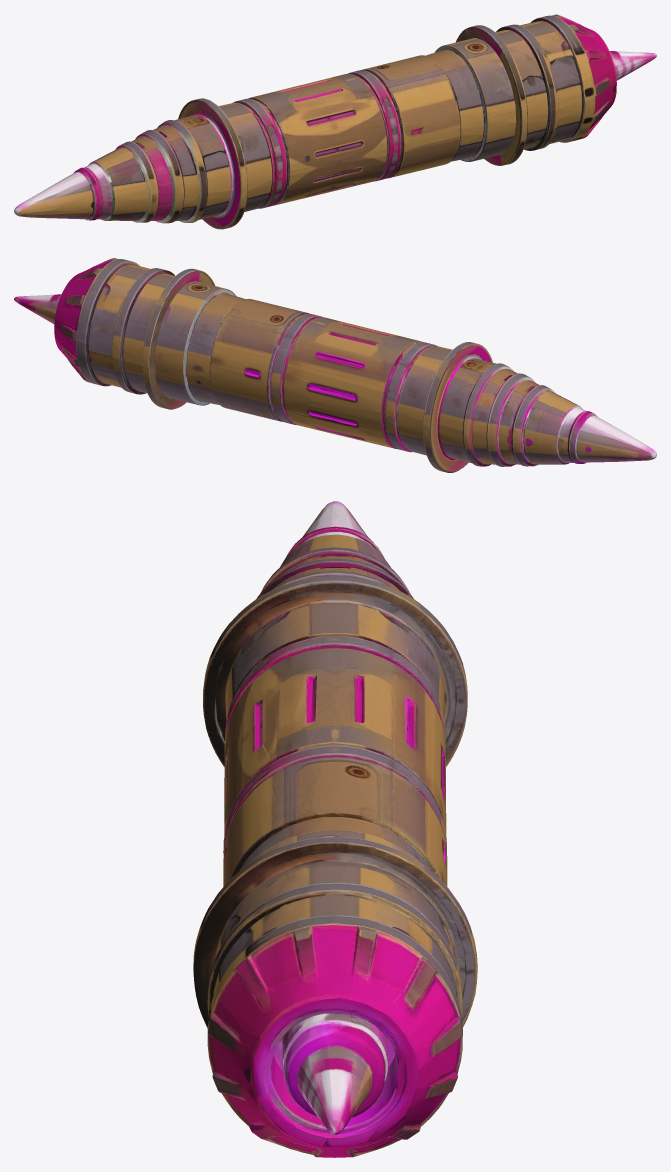
The model's file is tachyon_lance.glb.
The picture shows the model from 3 angles, top to bottom: view 1: azimuth 30°, elevation 25°; view 2: azimuth 150°, elevation 25°; view 3: azimuth 270°, elevation 25°; orthographic projection. The views are drawn at different scales.
Size of the model in its own units: 1.9 by 0.3668 by 0.3649.
1 material, 1 textured.
